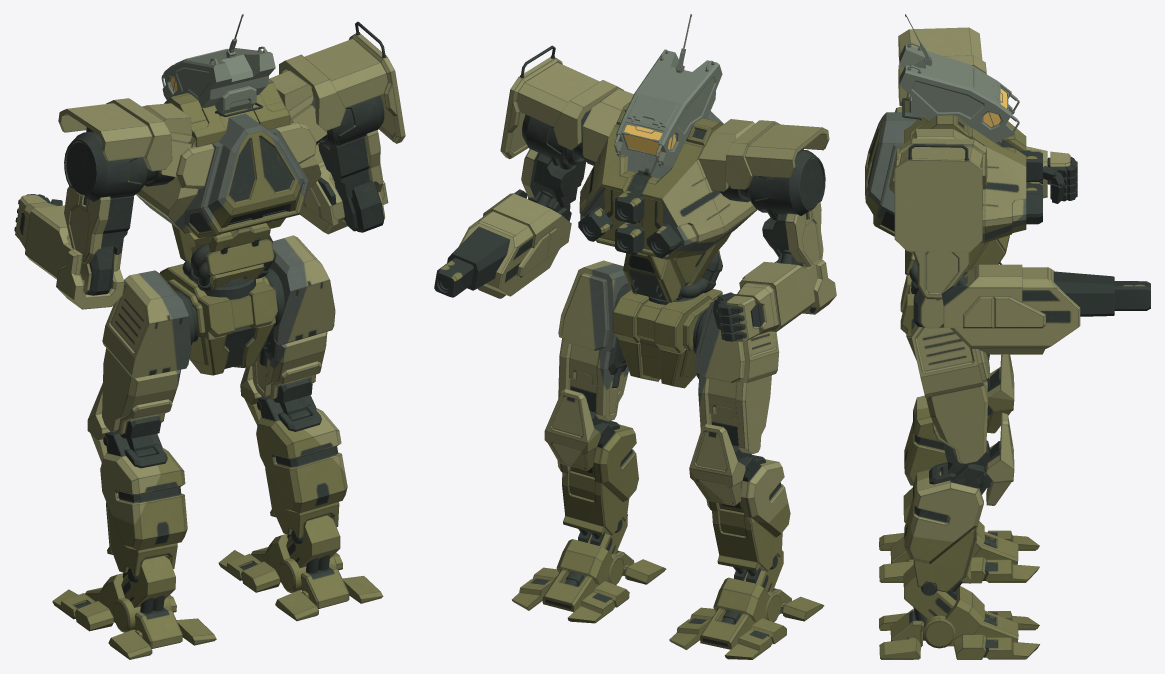
Rendered from Wolfhound.glb.
The picture shows the model from 3 angles, left to right: view 1: azimuth 30°, elevation 25°; view 2: azimuth 150°, elevation 25°; view 3: azimuth 270°, elevation 25°; orthographic projection. The views are drawn at different scales.
Visible parts, largest first — view 1: CenterTorso_CoreAndPelvis, LeftArm_ShoulderAndUpperarm, RightArm_ShoulderAndUpperarm, LeftLeg_Thigh, LeftLeg_Shin, RightLeg_Shin, RightLeg_Thigh, RightLeg_Foot, LeftLeg_Foot, Head_CockpitFrame, LeftArm_ForearmAndFist, LeftTorso_TorsoShell (+2 smaller); view 2: CenterTorso_CoreAndPelvis, RightArm_ShoulderAndUpperarm, LeftArm_ShoulderAndUpperarm, LeftLeg_Shin, RightLeg_Shin, RightLeg_Thigh, LeftLeg_Thigh, RightLeg_Foot, LeftLeg_Foot, Head_CockpitFrame, LeftArm_ForearmAndFist, RightArm_ForearmAndFist (+8 smaller); view 3: RightArm_ShoulderAndUpperarm, CenterTorso_CoreAndPelvis, RightLeg_Shin, RightArm_ForearmAndFist, RightLeg_Foot, RightLeg_Thigh, Head_CockpitFrame, LeftLeg_Foot, LeftLeg_Shin, RightArm_Weapon4, LeftArm_ShoulderAndUpperarm, LeftArm_ForearmAndFist (+3 smaller).
Boxes of the visible parts, bbox=[...] form: CenterTorso_CoreAndPelvis: bbox=[136, 79, 321, 375]; LeftArm_ShoulderAndUpperarm: bbox=[58, 98, 172, 295]; RightArm_ShoulderAndUpperarm: bbox=[279, 21, 405, 232]; LeftLeg_Thigh: bbox=[102, 270, 195, 438]; LeftLeg_Shin: bbox=[87, 383, 187, 582]; RightLeg_Shin: bbox=[240, 366, 347, 544]; RightLeg_Thigh: bbox=[252, 235, 335, 402]; RightLeg_Foot: bbox=[218, 515, 383, 621]; LeftLeg_Foot: bbox=[52, 555, 216, 659]; Head_CockpitFrame: bbox=[161, 14, 275, 115]; LeftArm_ForearmAndFist: bbox=[14, 194, 124, 309]; LeftTorso_TorsoShell: bbox=[142, 103, 214, 188]; CenterTorso_CoreAndPelvis: bbox=[579, 102, 757, 388]; RightArm_ShoulderAndUpperarm: bbox=[500, 45, 623, 212]; LeftArm_ShoulderAndUpperarm: bbox=[725, 120, 829, 268]; LeftLeg_Shin: bbox=[689, 423, 790, 576]; RightLeg_Shin: bbox=[544, 388, 638, 538]; RightLeg_Thigh: bbox=[558, 260, 630, 425]; LeftLeg_Thigh: bbox=[695, 294, 779, 459]; RightLeg_Foot: bbox=[512, 514, 666, 623]; LeftLeg_Foot: bbox=[669, 550, 824, 659]; Head_CockpitFrame: bbox=[614, 14, 722, 166]; LeftArm_ForearmAndFist: bbox=[713, 259, 836, 341]; RightArm_ForearmAndFist: bbox=[459, 189, 571, 298]; RightArm_ShoulderAndUpperarm: bbox=[894, 138, 987, 328]; CenterTorso_CoreAndPelvis: bbox=[865, 97, 1026, 360]; RightLeg_Shin: bbox=[904, 412, 1014, 595]; RightArm_ForearmAndFist: bbox=[942, 264, 1080, 354]; RightLeg_Foot: bbox=[879, 564, 1039, 659]; RightLeg_Thigh: bbox=[911, 318, 989, 466]; Head_CockpitFrame: bbox=[899, 14, 1019, 142]; LeftLeg_Foot: bbox=[879, 487, 1039, 583]; LeftLeg_Shin: bbox=[904, 354, 1014, 485]; RightArm_Weapon4: bbox=[1053, 271, 1150, 316]; LeftArm_ShoulderAndUpperarm: bbox=[898, 27, 986, 105]; LeftArm_ForearmAndFist: bbox=[1026, 146, 1077, 203].
Size of the model in its own units: 1.35 by 2.39 by 1.05.
4 materials, 2 textured.
